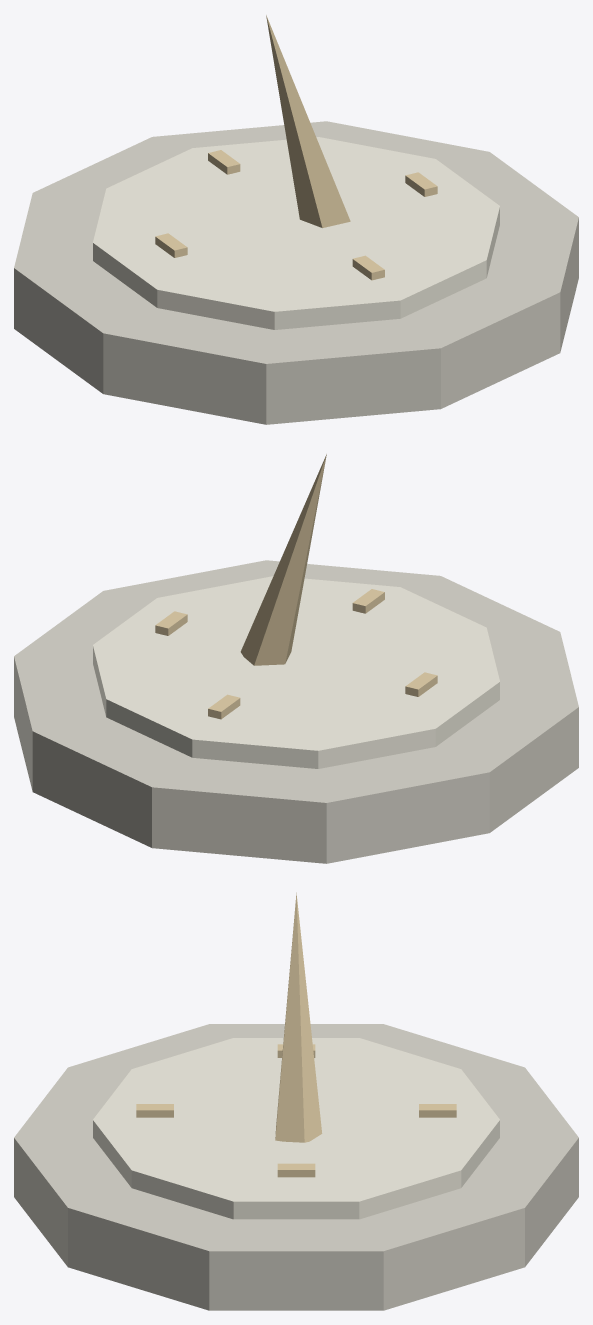
The model's file is moonhill-moon-dial-01.glb.
3 renders of one model, top to bottom at view 1: azimuth 30°, elevation 25°; view 2: azimuth 150°, elevation 25°; view 3: azimuth 270°, elevation 25°, orthographic. The views are drawn at different scales.
Visible parts, largest first — view 1: DialBase, DialFace, Gnomon; view 2: DialBase, DialFace, Gnomon; view 3: DialBase, DialFace, Gnomon, Marker_1, Marker_0, Marker_2.
Boxes of the visible parts, x1,y1,x2,y2 form: DialBase: [14, 121, 578, 424]; DialFace: [93, 137, 499, 329]; Gnomon: [266, 15, 350, 227]; DialBase: [14, 560, 578, 863]; DialFace: [93, 576, 499, 768]; Gnomon: [240, 454, 326, 665]; DialBase: [14, 1024, 578, 1310]; DialFace: [93, 1038, 499, 1219]; Gnomon: [275, 892, 322, 1142]; Marker_1: [277, 1163, 315, 1177]; Marker_0: [419, 1104, 456, 1117]; Marker_2: [136, 1104, 173, 1117].
Bounding box in the file's own units: 1.64 × 0.9752 × 1.72.
